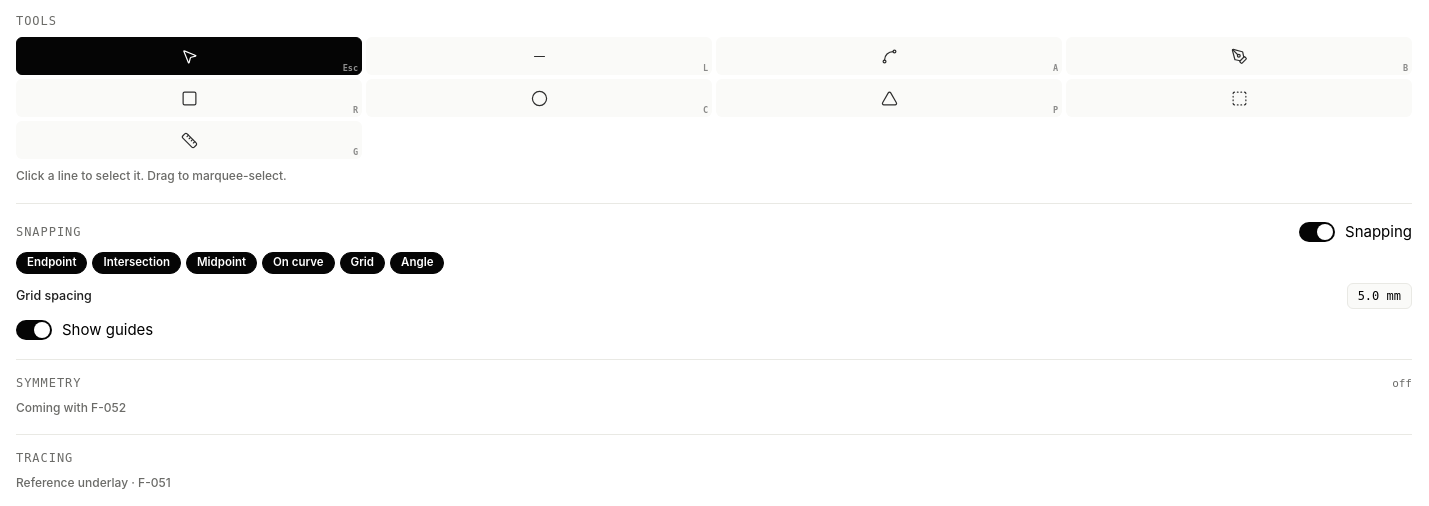
Test: DrawPanel — snapping (F-012) › disables the kind chips while the master switch is off
Click the switch labelled "Snapping" at (1356, 232), box [1299,220,1412,244]
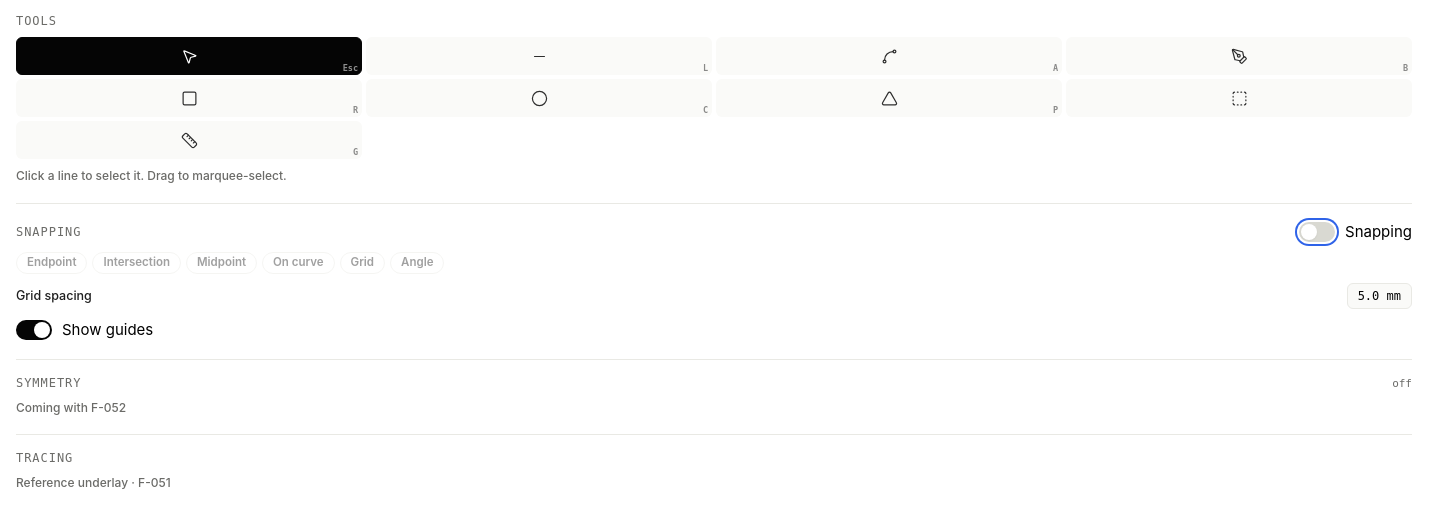
Now the button "Grid" is disabled, box [340,252,385,274]
